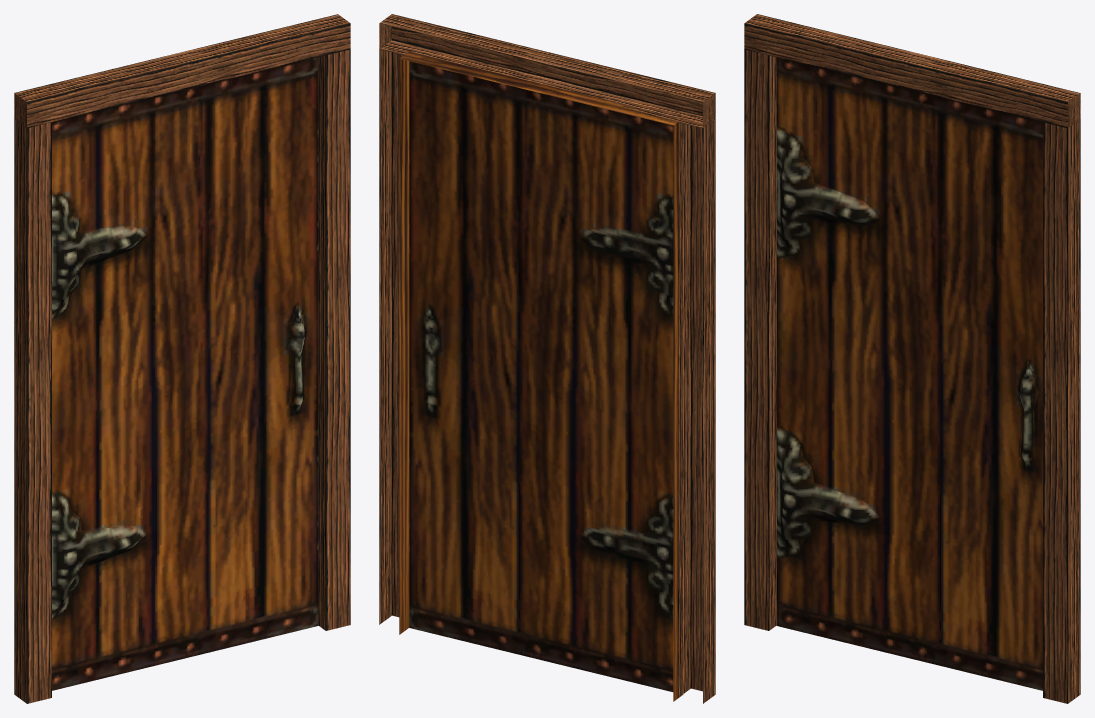
File: INST_LT_INTERIORDOOR.fbx
3 views of the same model, side by side, from view 1: azimuth 30°, elevation 25°; view 2: azimuth 150°, elevation 25°; view 3: azimuth 330°, elevation 25° (orthographic).
Parts seen in each view (by area): view 1: INST_LT_INTERIORDOOR; view 2: INST_LT_INTERIORDOOR; view 3: INST_LT_INTERIORDOOR.
Part boxes in pixels (<box>): INST_LT_INTERIORDOOR: <box>14,14,350,703</box>; INST_LT_INTERIORDOOR: <box>379,14,715,703</box>; INST_LT_INTERIORDOOR: <box>744,14,1080,703</box>.
Size of the model in its own units: 12393 by 22031 by 1162.
2 materials, 2 textured.
